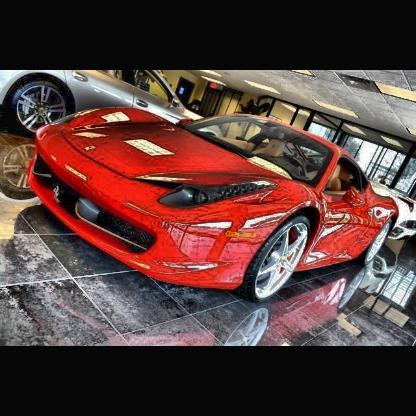Ferrari 458 Italia Coupe 2012: (32, 107, 399, 299)
